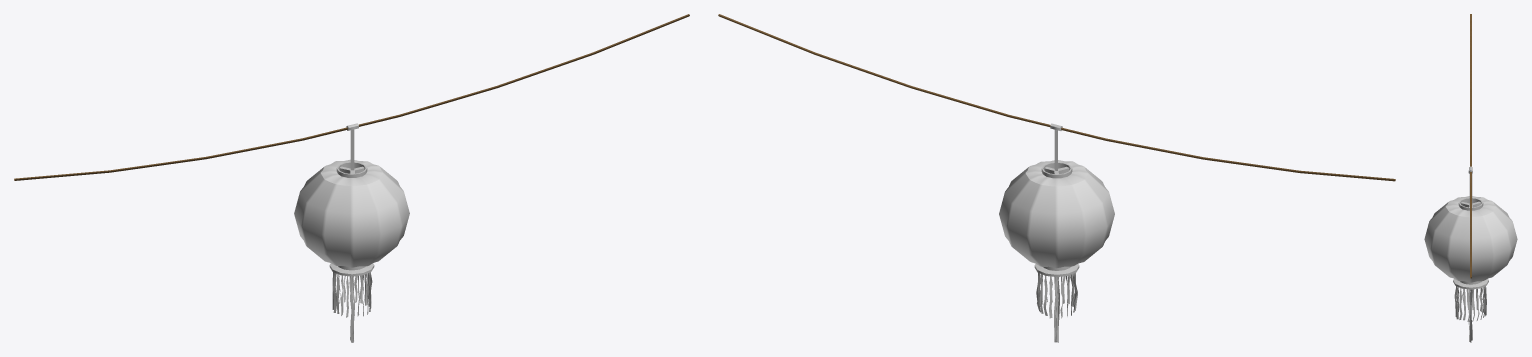
The model's file is KB3D_NSF_PropPaperLantern_A.fbx.
3 views of the same model, side by side, from view 1: azimuth 30°, elevation 25°; view 2: azimuth 150°, elevation 25°; view 3: azimuth 270°, elevation 25° (orthographic). The views are drawn at different scales.
Parts seen in each view (by area): view 1: KB3D_NSF_PropPaperLantern_A_Main; view 2: KB3D_NSF_PropPaperLantern_A_Main; view 3: KB3D_NSF_PropPaperLantern_A_Main.
Boxes of the visible parts, x1=… form: KB3D_NSF_PropPaperLantern_A_Main: x1=14, y1=14, x2=689, y2=342; KB3D_NSF_PropPaperLantern_A_Main: x1=718, y1=14, x2=1395, y2=342; KB3D_NSF_PropPaperLantern_A_Main: x1=1424, y1=14, x2=1517, y2=342.
Size of the model in its own units: 469 by 163 by 70.1.
